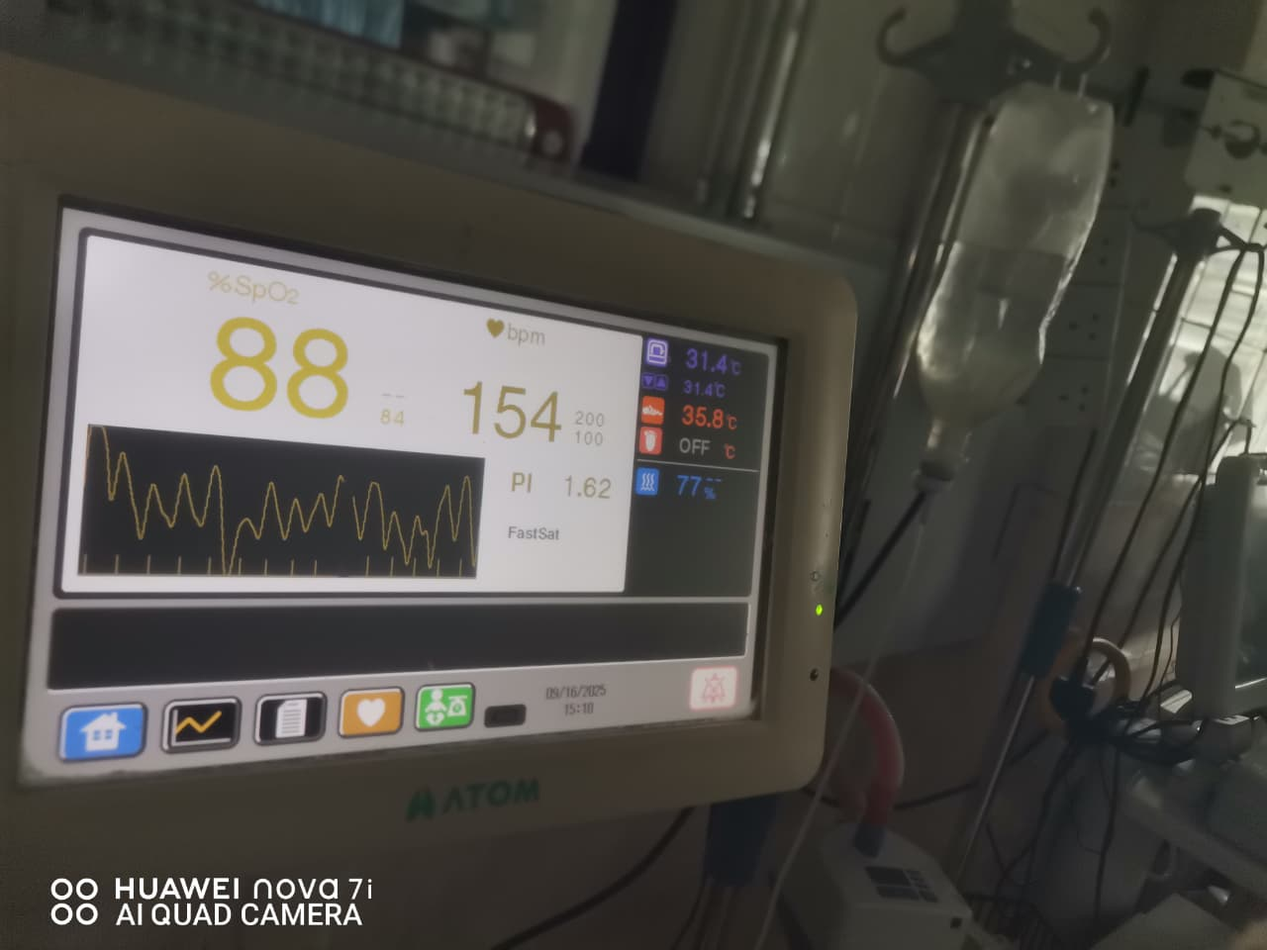air_temp_value: (679, 339, 742, 373)
heart_rate_value: (455, 371, 572, 447)
humidity_value: (665, 463, 710, 497)
skin_temp_value: (675, 392, 732, 431)
spo2_value: (215, 298, 365, 421)
